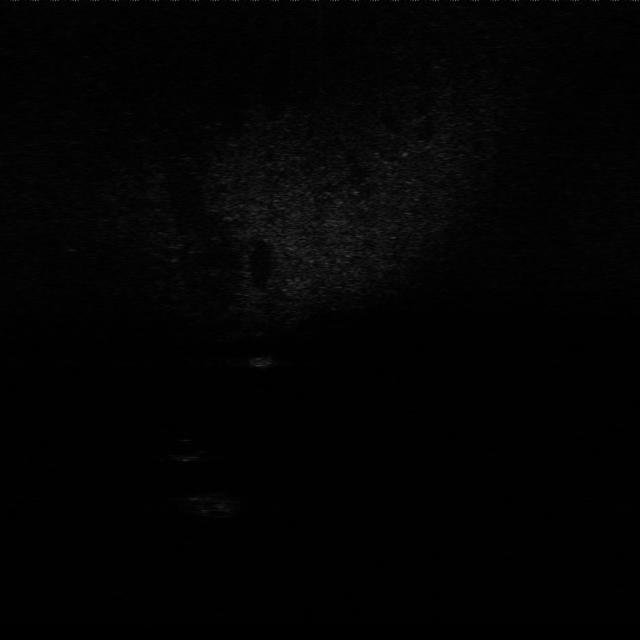ball: (170, 437, 206, 463)
circle cage: (178, 485, 243, 520)
cube: (248, 351, 278, 371)
